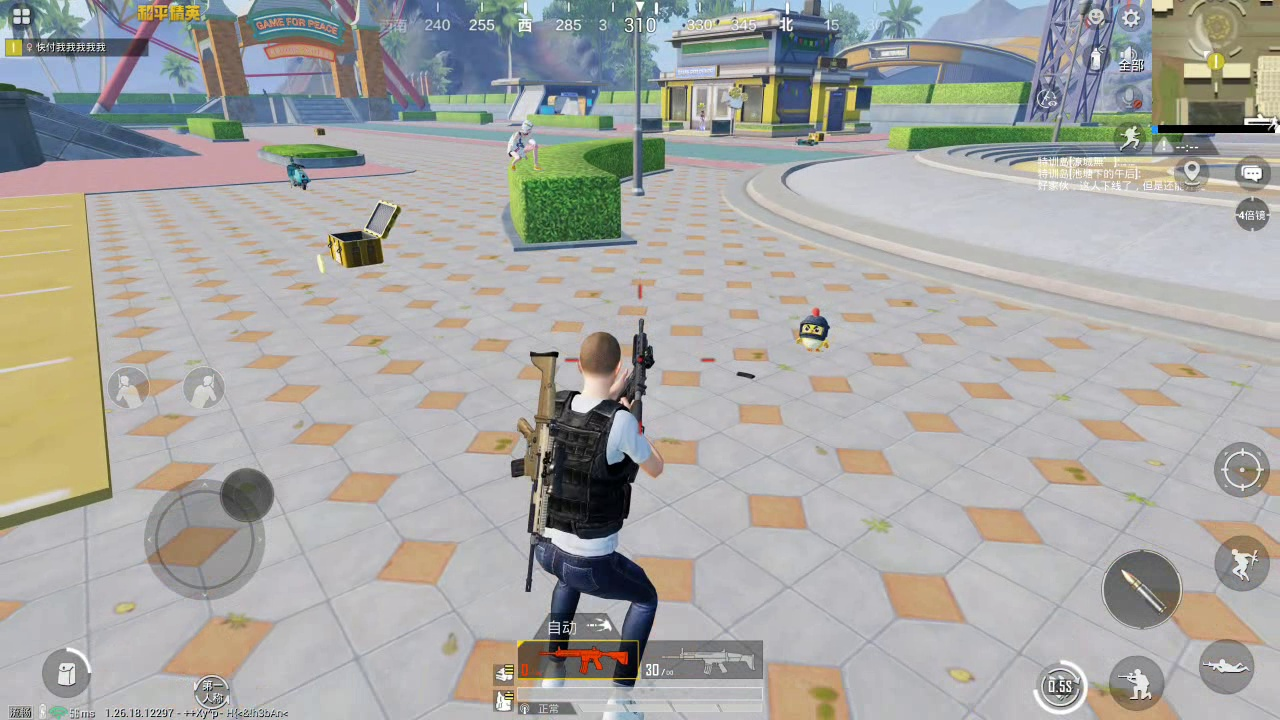enemy: (507, 119, 540, 172)
